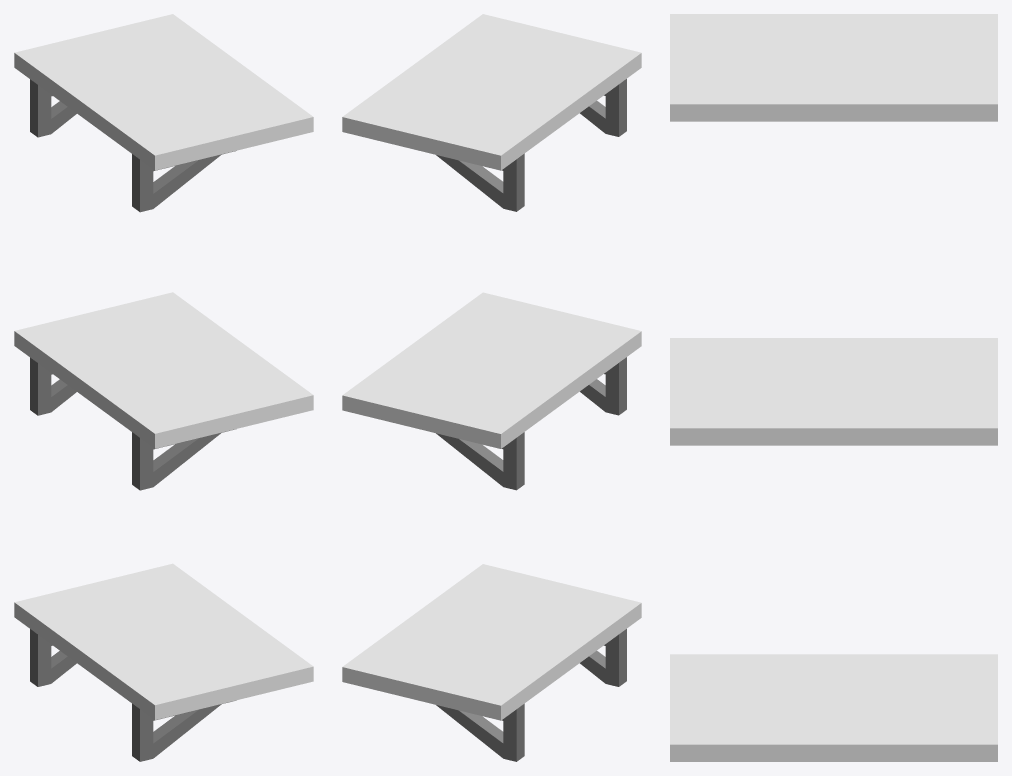
File: Shelves_Wall_sm.fbx
3 renders of one model, left to right at view 1: azimuth 30°, elevation 25°; view 2: azimuth 150°, elevation 25°; view 3: azimuth 270°, elevation 25°, orthographic. The views are drawn at different scales.
Visible parts, largest first — view 1: Shelves_Wall_sm; view 2: Shelves_Wall_sm; view 3: Shelves_Wall_sm.
Boxes of the visible parts, left/top/right/bottom form: Shelves_Wall_sm: left=14, top=14, right=313, bottom=761; Shelves_Wall_sm: left=342, top=14, right=641, bottom=761; Shelves_Wall_sm: left=670, top=14, right=997, bottom=761.
Bounding box in the file's own units: 30.01 × 112 × 46.07.
